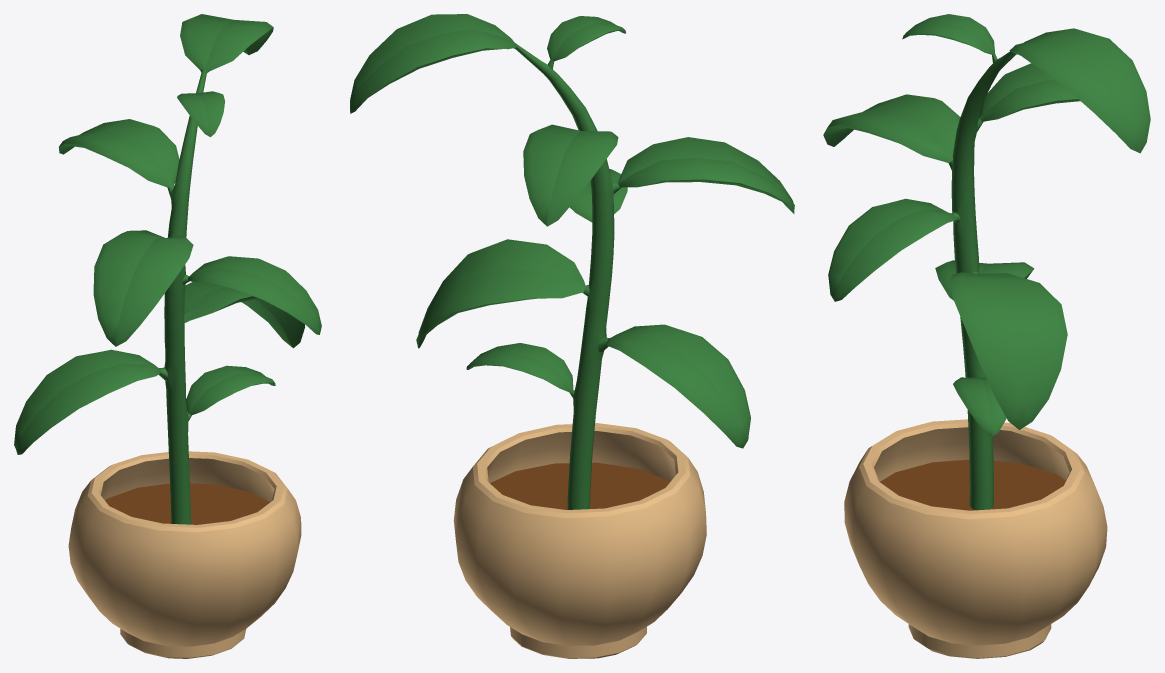
Rendered from Plant_2.fbx.
3 views of the same model, side by side, from view 1: azimuth 30°, elevation 25°; view 2: azimuth 150°, elevation 25°; view 3: azimuth 270°, elevation 25° (orthographic). The views are drawn at different scales.
Visible parts, largest first — view 1: Plant_2; view 2: Plant_2; view 3: Plant_2.
Boxes of the visible parts, bbox=[...] form: Plant_2: bbox=[14, 14, 321, 658]; Plant_2: bbox=[350, 14, 794, 658]; Plant_2: bbox=[823, 14, 1150, 658].
Size of the model in its own units: 0.7419 by 1.3 by 0.6167.
